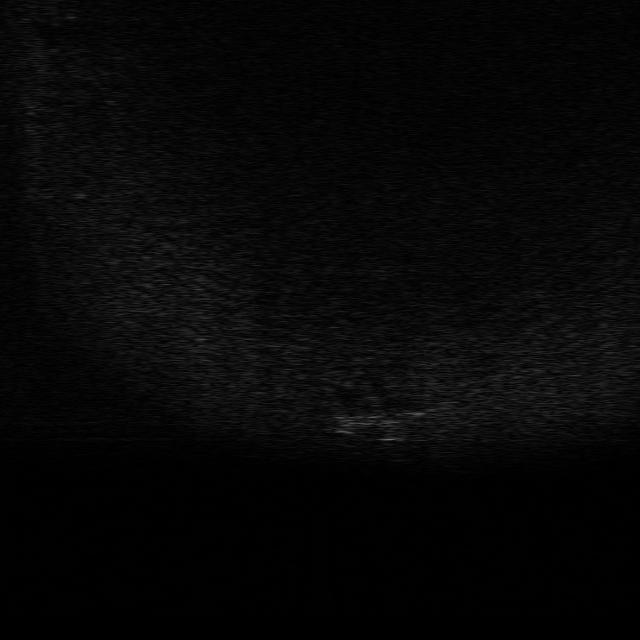plane: (335, 398, 425, 446)
